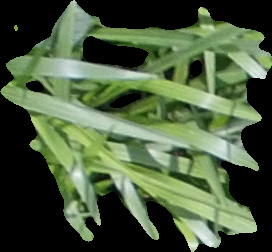grass: (1, 1, 270, 250)
